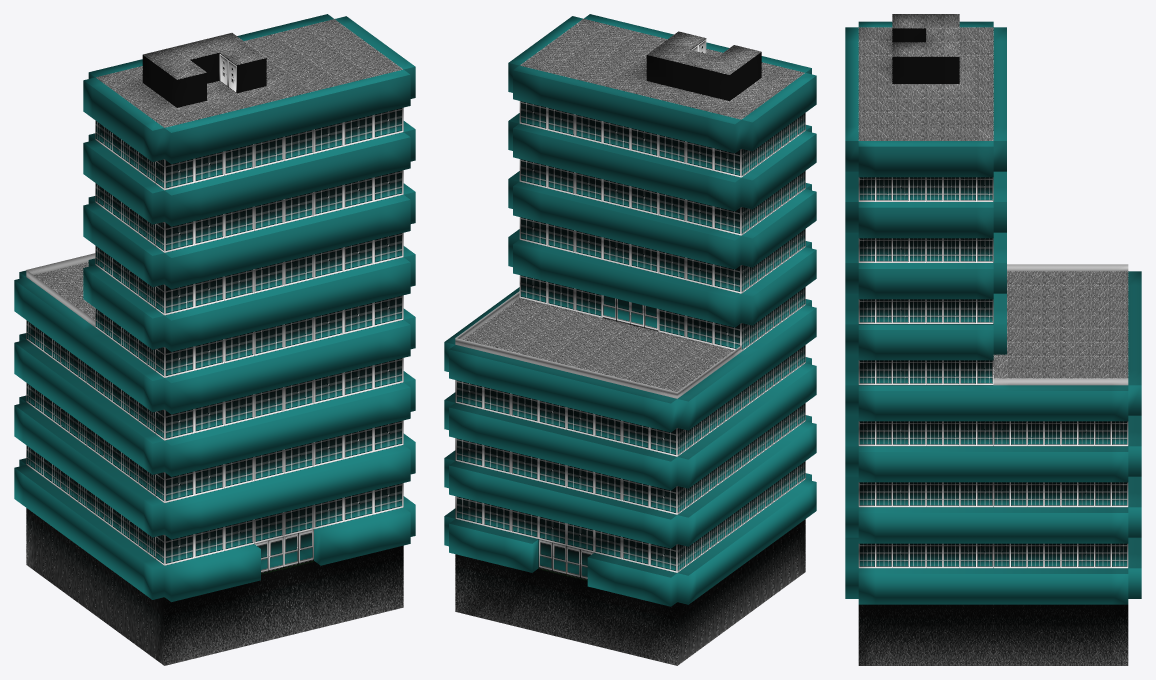
Rendered from kantoor_mod3_1b.fbx.
3 views of the same model, side by side, from view 1: azimuth 30°, elevation 25°; view 2: azimuth 150°, elevation 25°; view 3: azimuth 270°, elevation 25° (orthographic). The views are drawn at different scales.
Parts seen in each view (by area): view 1: kantoor_mod3_1b; view 2: kantoor_mod3_1b; view 3: kantoor_mod3_1b.
Part boxes in pixels (x1,y1,x2,y2): kantoor_mod3_1b: (14,14,415,665); kantoor_mod3_1b: (444,14,816,665); kantoor_mod3_1b: (845,14,1141,665).
Size of the model in its own units: 3168 by 6516 by 3168.
